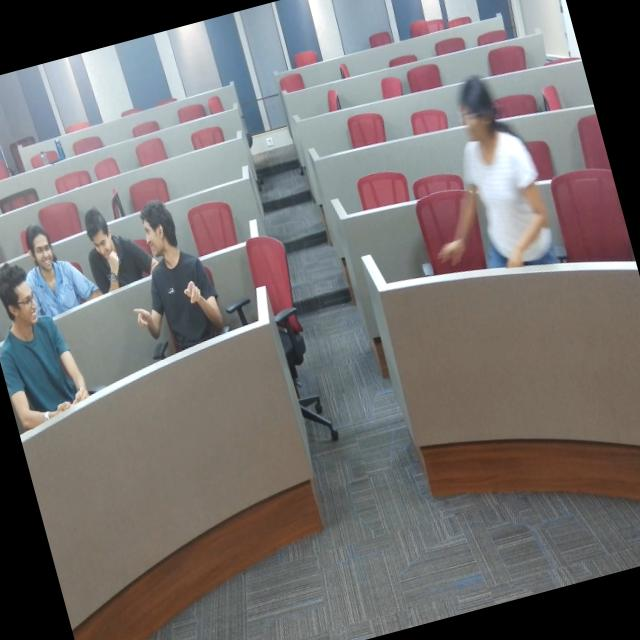cheating: (103, 193, 240, 378), (0, 265, 97, 446), (70, 191, 158, 300), (14, 219, 100, 327)
